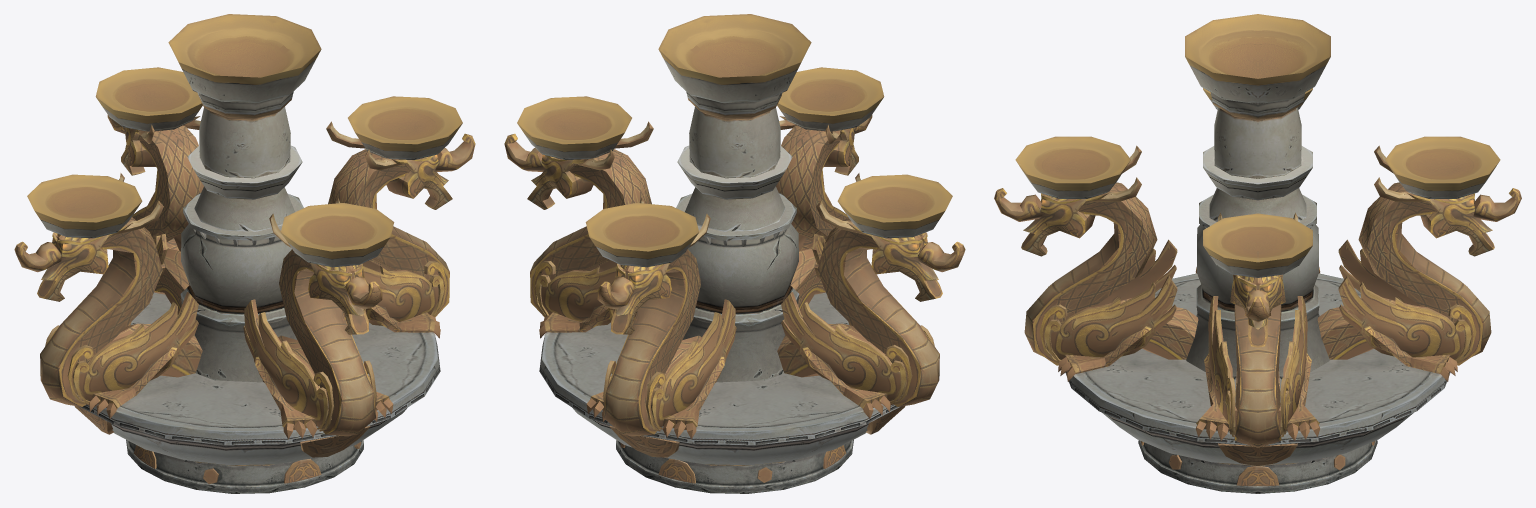
Rendered from mod_zlc_jianzhu026_xy.FBX.
3 views of the same model, side by side, from view 1: azimuth 30°, elevation 25°; view 2: azimuth 150°, elevation 25°; view 3: azimuth 270°, elevation 25° (orthographic).
Visible parts, largest first — view 1: mod_zlc_jianzhu026_xy; view 2: mod_zlc_jianzhu026_xy; view 3: mod_zlc_jianzhu026_xy.
Part boxes in pixels (x1,y1,x2,y2): mod_zlc_jianzhu026_xy: [14, 14, 475, 493]; mod_zlc_jianzhu026_xy: [504, 14, 965, 493]; mod_zlc_jianzhu026_xy: [994, 14, 1521, 493].
Bounding box in the file's own units: 1545 × 1282 × 1545.
Materials: 1 (1 with a texture image).
